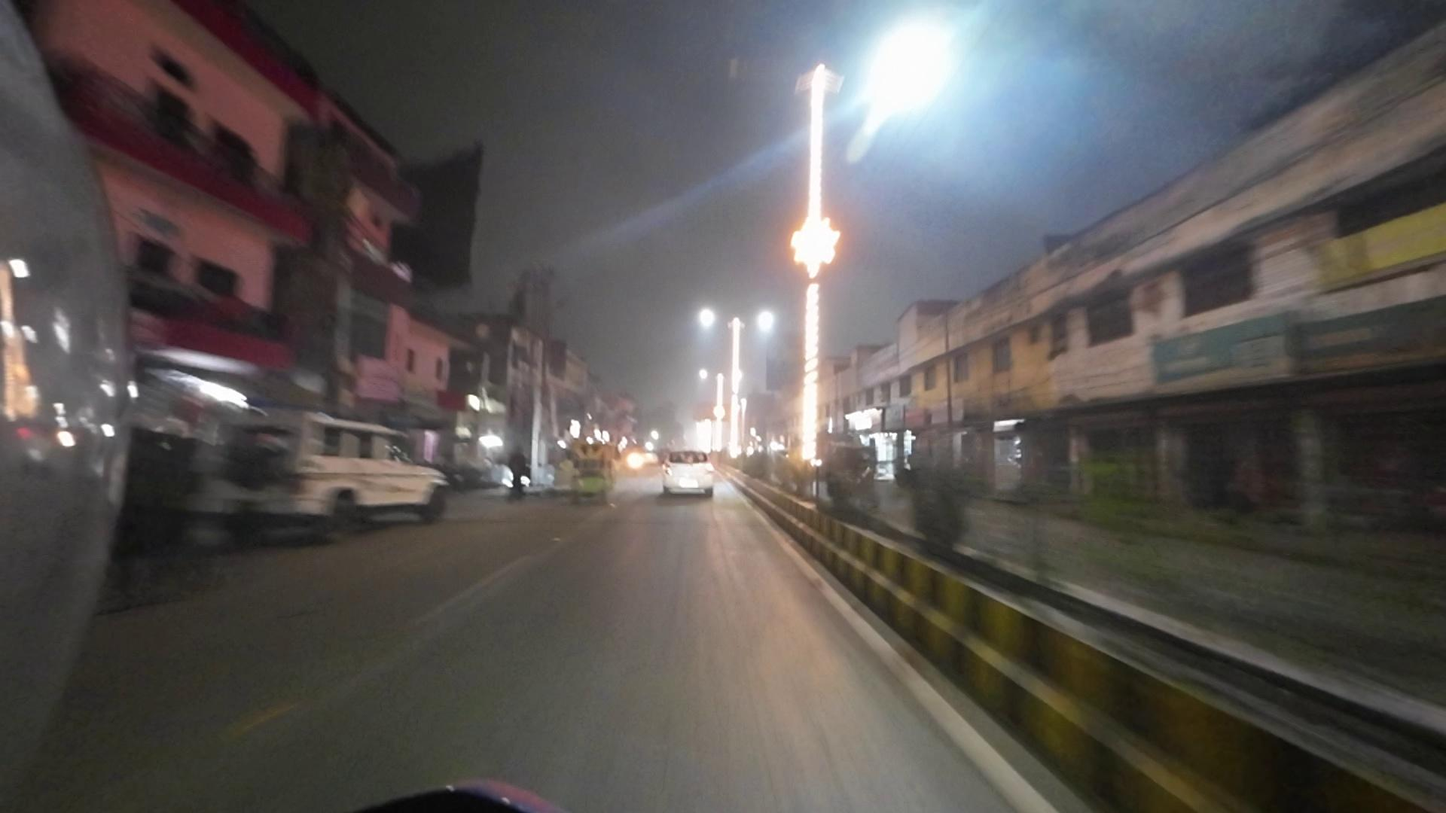streetlight: (716, 53, 790, 83)
